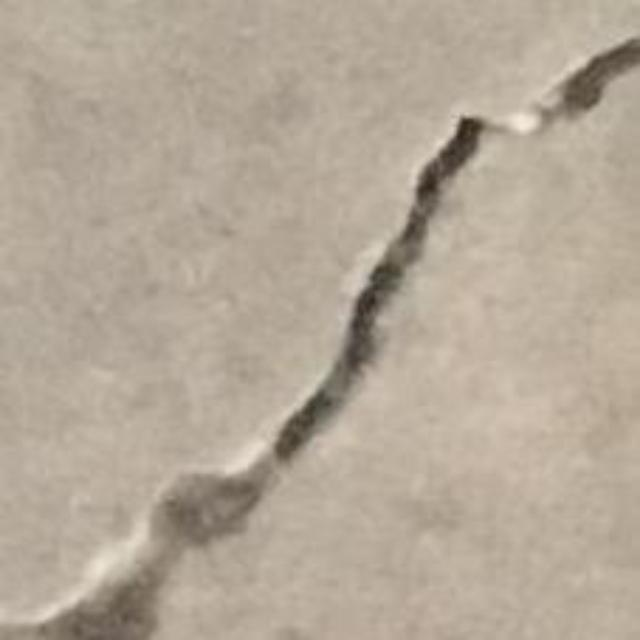crack: (0, 37, 639, 639)
